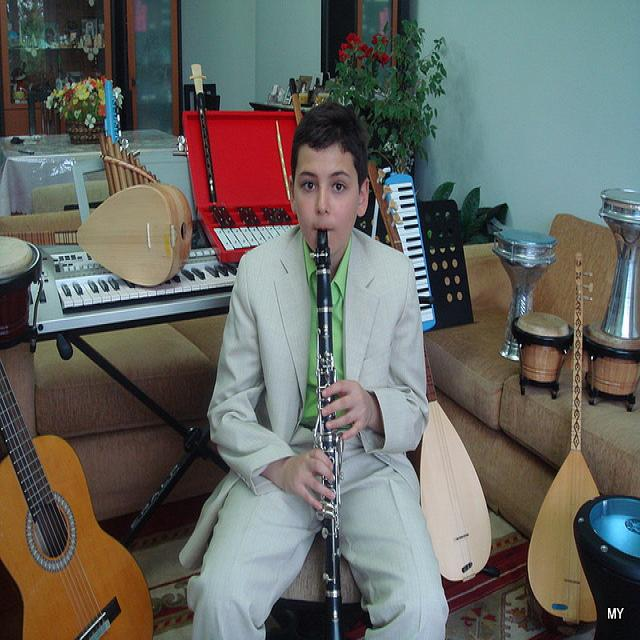clarinet: (310, 227, 356, 640)
guitar: (0, 354, 157, 640)
